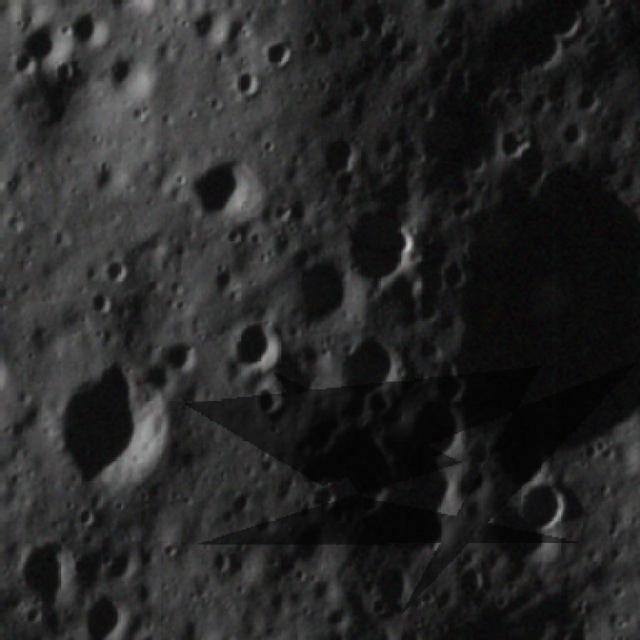crater: (444, 161, 640, 470), (44, 354, 176, 509), (340, 203, 420, 295), (286, 243, 362, 337), (329, 320, 406, 405), (388, 388, 468, 468), (184, 147, 262, 224), (216, 302, 284, 382), (512, 465, 583, 540), (19, 524, 84, 604), (97, 49, 160, 102), (16, 17, 67, 72), (373, 552, 413, 620), (58, 5, 115, 46), (244, 379, 294, 423), (85, 592, 132, 638), (160, 323, 198, 379), (222, 66, 268, 102), (261, 28, 299, 69)
